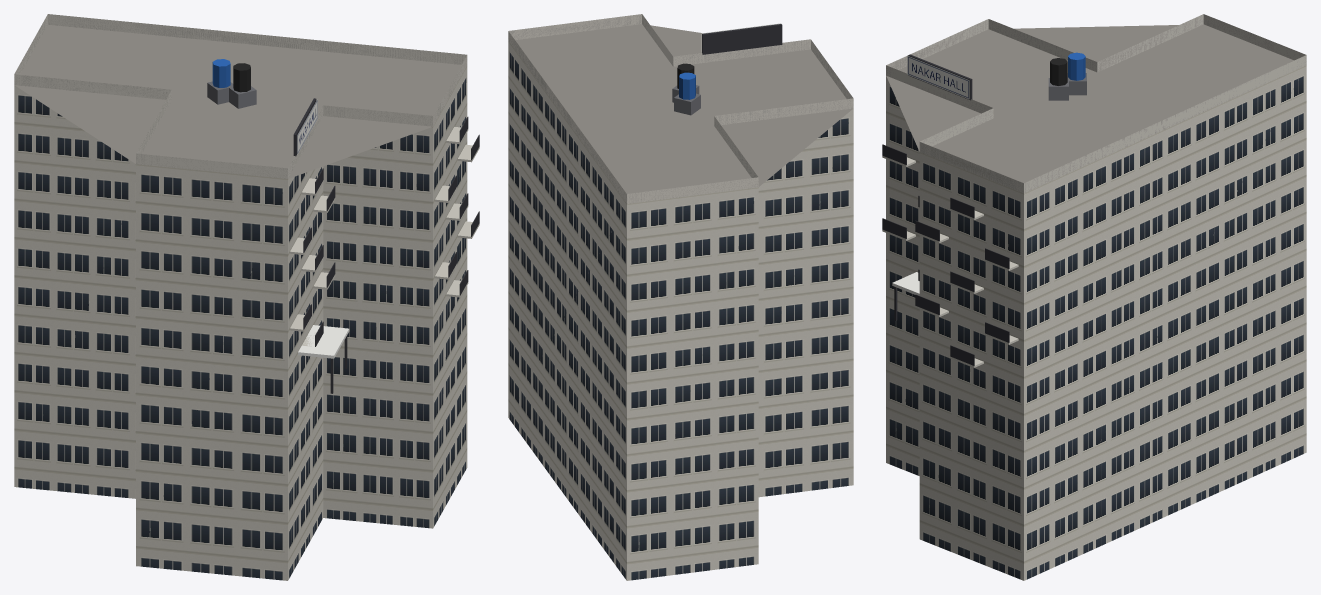
File: hotels-27363-14873.7dd26347.glb
3 renders of one model, left to right at view 1: azimuth 30°, elevation 25°; view 2: azimuth 150°, elevation 25°; view 3: azimuth 270°, elevation 25°, orthographic. The views are drawn at different scales.
Bounding box in the file's own units: 31.86 × 36.56 × 33.31.
4 materials, 2 textured.
